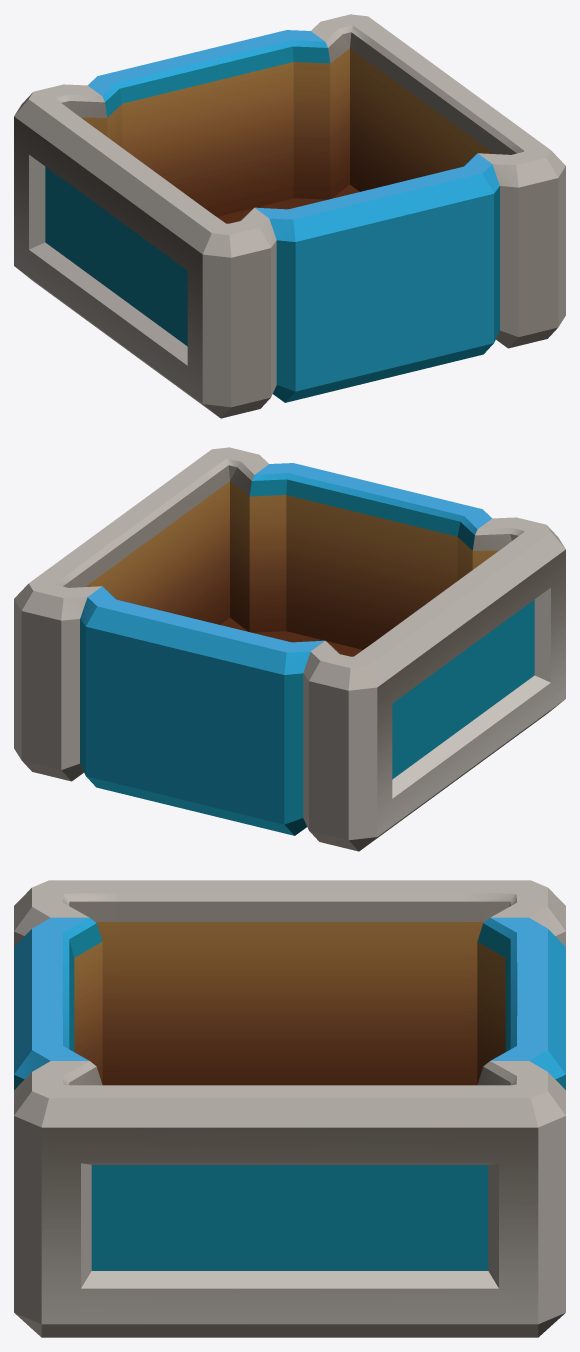
File: m_deco_chestB_body.FBX
3 views of the same model, one above another, from view 1: azimuth 30°, elevation 25°; view 2: azimuth 150°, elevation 25°; view 3: azimuth 270°, elevation 25° (orthographic). The views are drawn at different scales.
Visible parts, largest first — view 1: m_deco_chestB_body; view 2: m_deco_chestB_body; view 3: m_deco_chestB_body.
Part boxes in pixels (bbox=[...]): m_deco_chestB_body: bbox=[14, 14, 565, 418]; m_deco_chestB_body: bbox=[14, 447, 565, 851]; m_deco_chestB_body: bbox=[14, 880, 565, 1337].
Bounding box in the file's own units: 2 × 0.9728 × 2.
